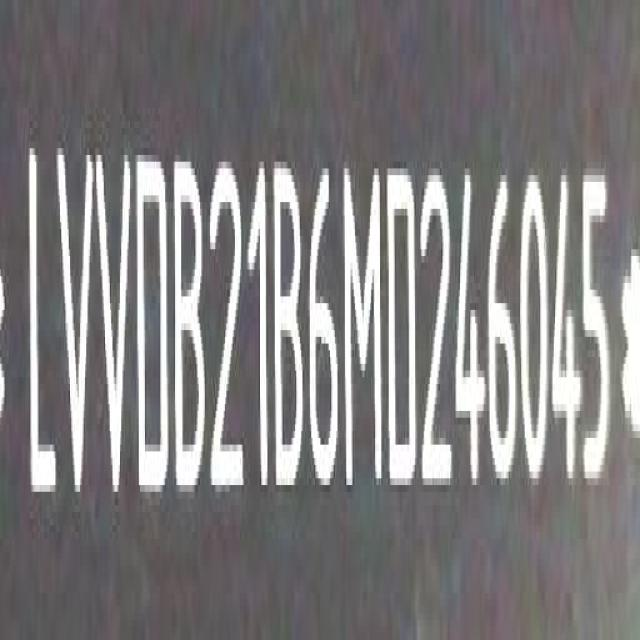0: (521, 173, 550, 494)
1: (249, 158, 273, 497)
2: (210, 159, 246, 506), (420, 170, 455, 496)
4: (452, 165, 485, 496), (550, 165, 580, 493)
5: (584, 167, 616, 491)
6: (308, 158, 342, 491), (488, 172, 523, 494)
B: (171, 156, 205, 509), (272, 154, 306, 490)
D: (134, 146, 169, 506), (388, 165, 420, 491)
L: (24, 130, 59, 515)
M: (344, 161, 384, 490)
V: (54, 138, 94, 512), (98, 142, 134, 511)
